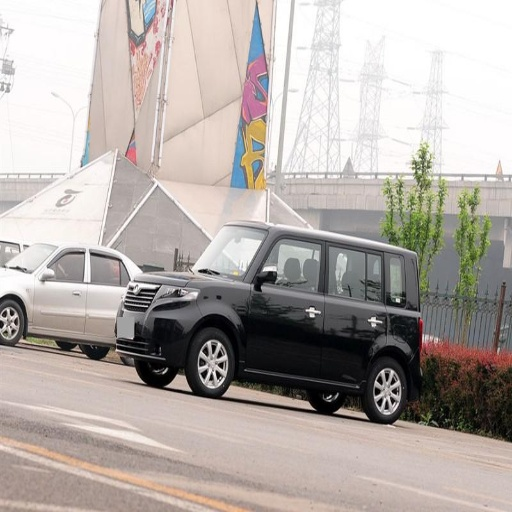trunk: (119, 280, 240, 353), (370, 309, 414, 354)
